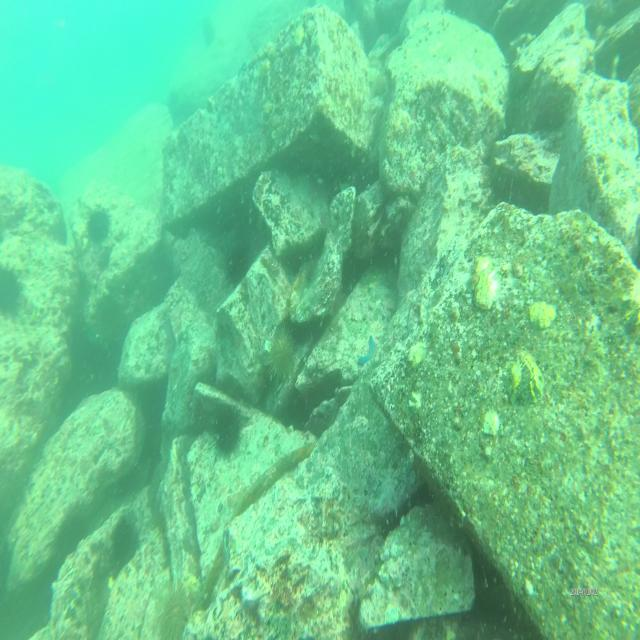echinus: (210, 400, 244, 464), (0, 257, 27, 329), (107, 515, 140, 573), (50, 512, 88, 562), (263, 329, 297, 384), (224, 239, 254, 294), (85, 203, 114, 253)
scallop: (505, 345, 546, 408), (472, 253, 506, 312), (528, 296, 560, 332), (481, 407, 502, 438), (408, 339, 428, 368), (290, 21, 307, 51), (257, 55, 273, 83)
starfish: (355, 332, 386, 377)
